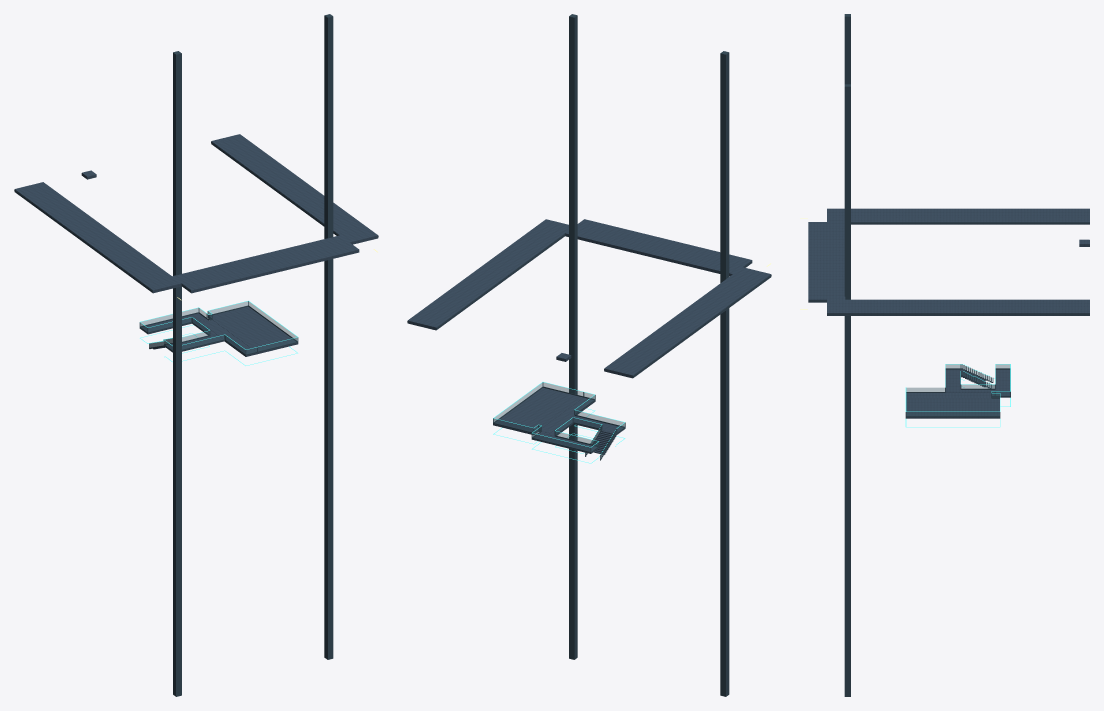
The model's file is v02-detailed-02-05-coffered.glb.
The picture shows the model from 3 angles, left to right: view 1: azimuth 30°, elevation 25°; view 2: azimuth 150°, elevation 25°; view 3: azimuth 270°, elevation 25°; orthographic projection. The views are drawn at different scales.
Parts seen in each view (by area): view 1: v02-detailed-02-05-coffered; view 2: v02-detailed-02-05-coffered; view 3: v02-detailed-02-05-coffered.
Part boxes in pixels (x1,y1,x2,y2): v02-detailed-02-05-coffered: [14, 14, 378, 696]; v02-detailed-02-05-coffered: [407, 14, 771, 696]; v02-detailed-02-05-coffered: [800, 14, 1089, 696].
Size of the model in its own units: 47.1 by 128 by 55.08.
Materials: 5 (1 with a texture image).
